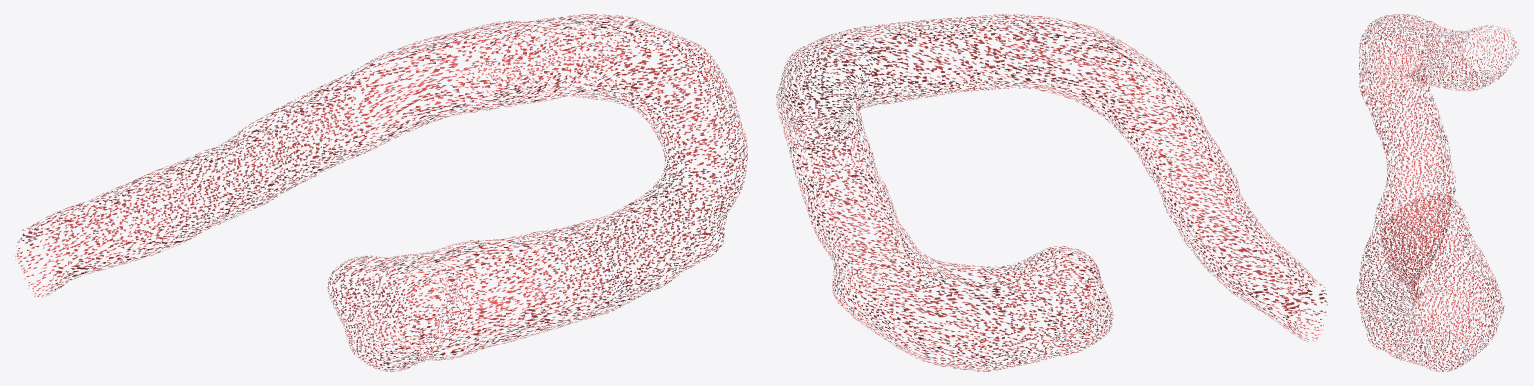
File: aorta.glb
The picture shows the model from 3 angles, left to right: view 1: azimuth 30°, elevation 25°; view 2: azimuth 150°, elevation 25°; view 3: azimuth 270°, elevation 25°; orthographic projection. The views are drawn at different scales.
Size of the model in its own units: 253 by 136 by 70.8.
